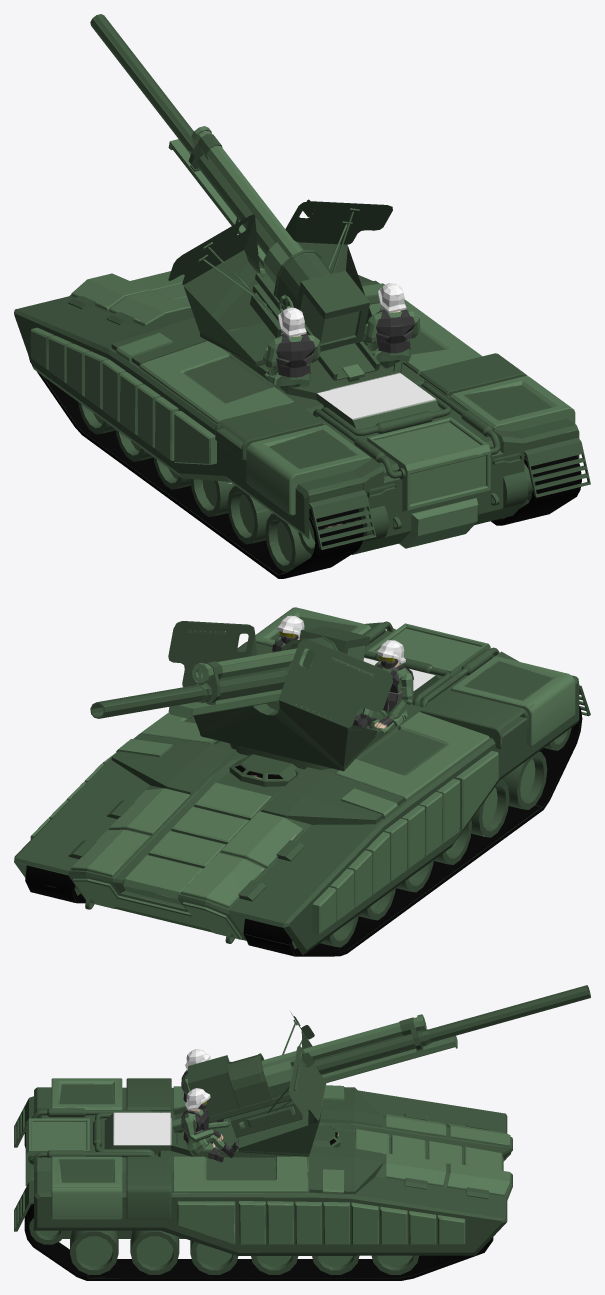
The model's file is Artillery.glb.
3 renders of one model, top to bottom at view 1: azimuth 30°, elevation 25°; view 2: azimuth 150°, elevation 25°; view 3: azimuth 270°, elevation 25°, orthographic. The views are drawn at different scales.
Parts seen in each view (by area): view 1: Tank; view 2: Tank; view 3: Tank.
Part boxes in pixels (x1,y1,x2,y2): Tank: (14,14,590,578); Tank: (14,607,590,956); Tank: (14,985,590,1280).
Bounding box in the file's own units: 4.48 × 4.49 × 9.64.
1 material, 1 textured.
